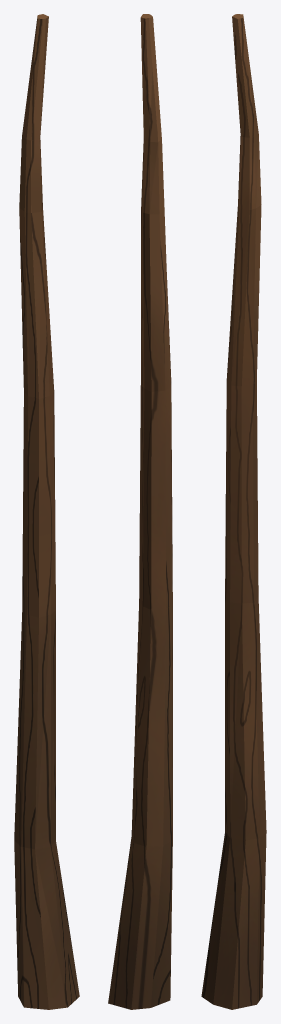
File: Small-Branch-2.fbx
3 views of the same model, side by side, from view 1: azimuth 90°, elevation 25°; view 2: azimuth 210°, elevation 25°; view 3: azimuth 270°, elevation 25° (orthographic).
Parts seen in each view (by area): view 1: Small-Branch-2; view 2: Small-Branch-2; view 3: Small-Branch-2.
Part boxes in pixels (x1,y1,x2,y2): Small-Branch-2: (14, 14, 79, 1009); Small-Branch-2: (108, 14, 172, 1009); Small-Branch-2: (201, 14, 266, 1009).
Size of the model in its own units: 0.8426 by 13.18 by 0.7966.
